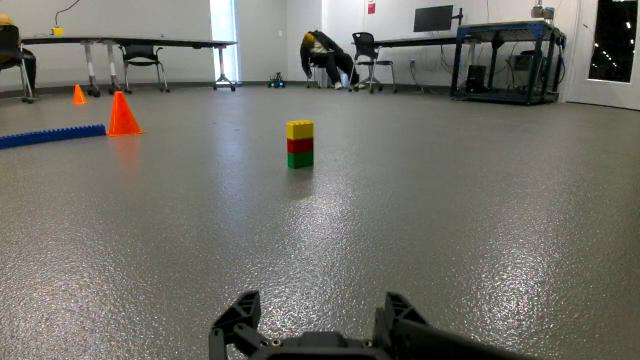lego: (271, 101, 334, 187)
